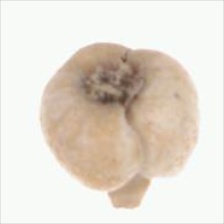L3: (103, 171, 155, 209)
L4: (40, 41, 200, 210)
